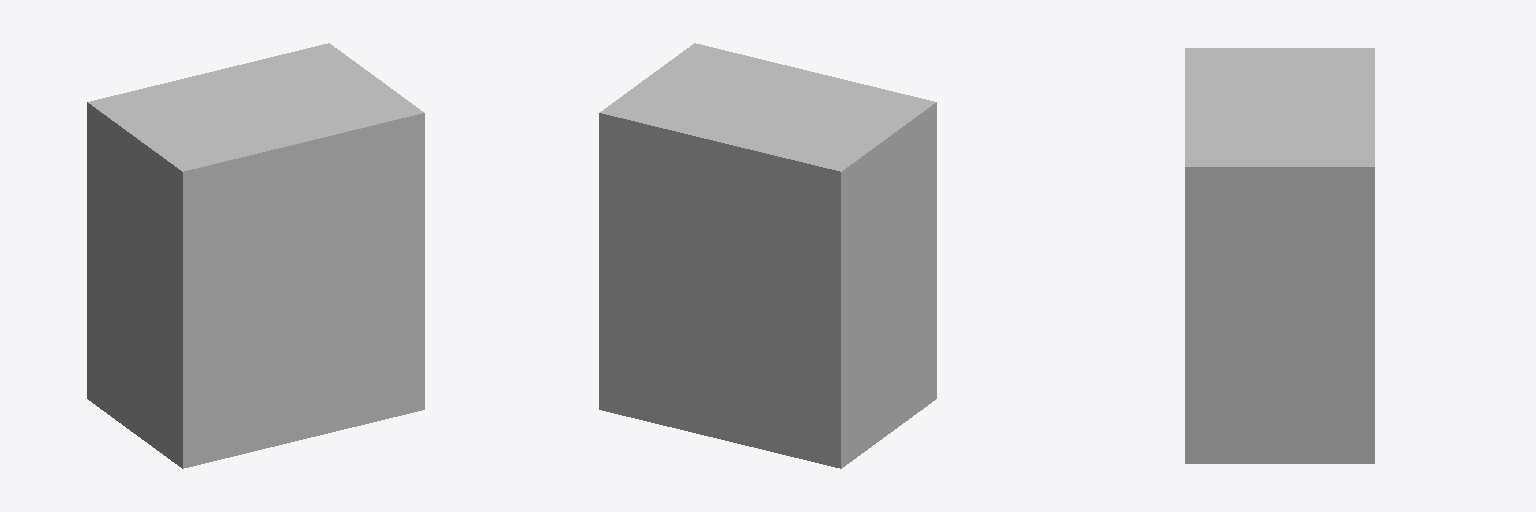
The model's file is MagmaElemental_1_000001.obj.
The picture shows the model from 3 angles: view 1: azimuth 30°, elevation 25°; view 2: azimuth 150°, elevation 25°; view 3: azimuth 270°, elevation 25°; orthographic projection.
Parts seen in each view (by area): view 1: Cube; view 2: Cube; view 3: Cube.
Part boxes in pixels (bbox=[...]): Cube: bbox=[87, 43, 424, 468]; Cube: bbox=[599, 43, 936, 468]; Cube: bbox=[1185, 48, 1374, 463].
Bounding box in the file's own units: 3.4 × 3.98 × 2.32.